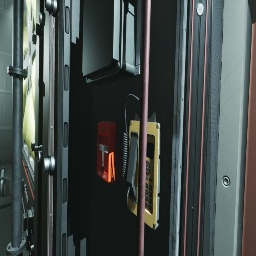EmergencyPhone ,: (122, 94, 163, 230)
FireAlarm ,: (97, 121, 116, 184)
